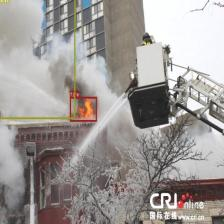fire: (69, 97, 97, 121)
smoke: (0, 0, 75, 118)
